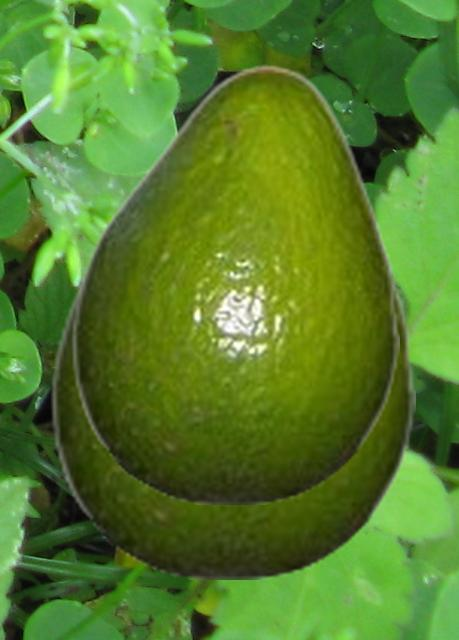avocado: (49, 152, 414, 578), (70, 63, 398, 503)
